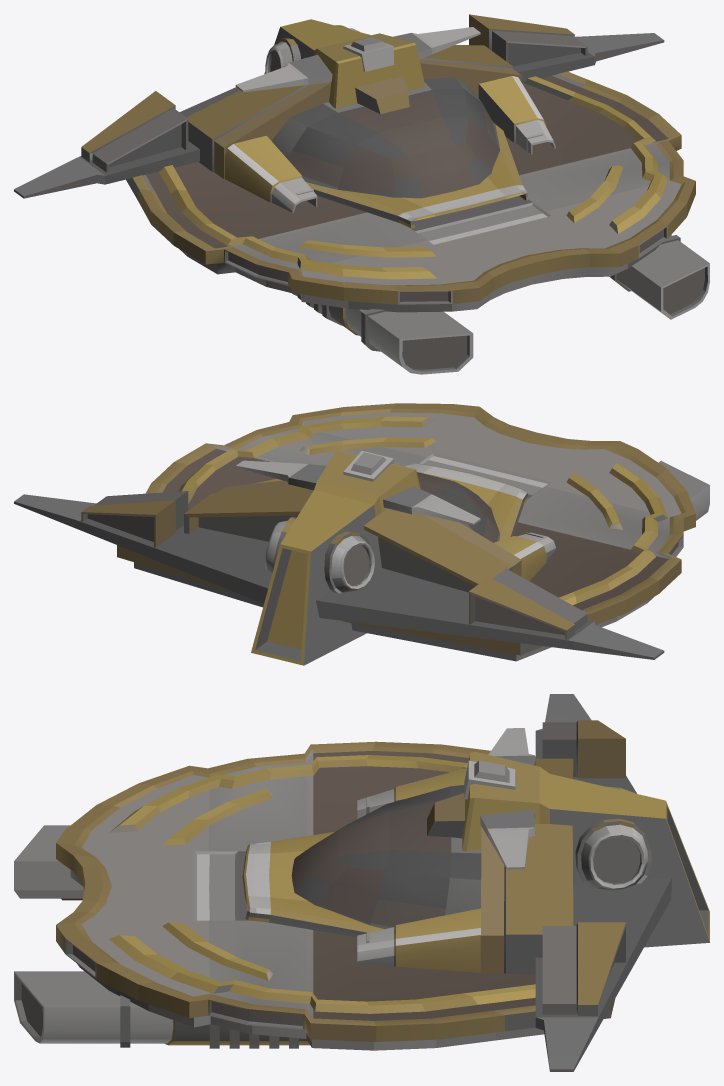
File: pancake.glb
The picture shows the model from 3 angles, top to bottom: view 1: azimuth 30°, elevation 25°; view 2: azimuth 150°, elevation 25°; view 3: azimuth 270°, elevation 25°; orthographic projection. The views are drawn at different scales.
Parts seen in each view (by area): view 1: Pancake; view 2: Pancake; view 3: Pancake.
Part boxes in pixels (left/top/right/bottom): Pancake: left=14, top=14, right=709, bottom=374; Pancake: left=14, top=403, right=709, bottom=665; Pancake: left=14, top=694, right=709, bottom=1071.
Bounding box in the file's own units: 10.5 × 2.6 × 8.23.
